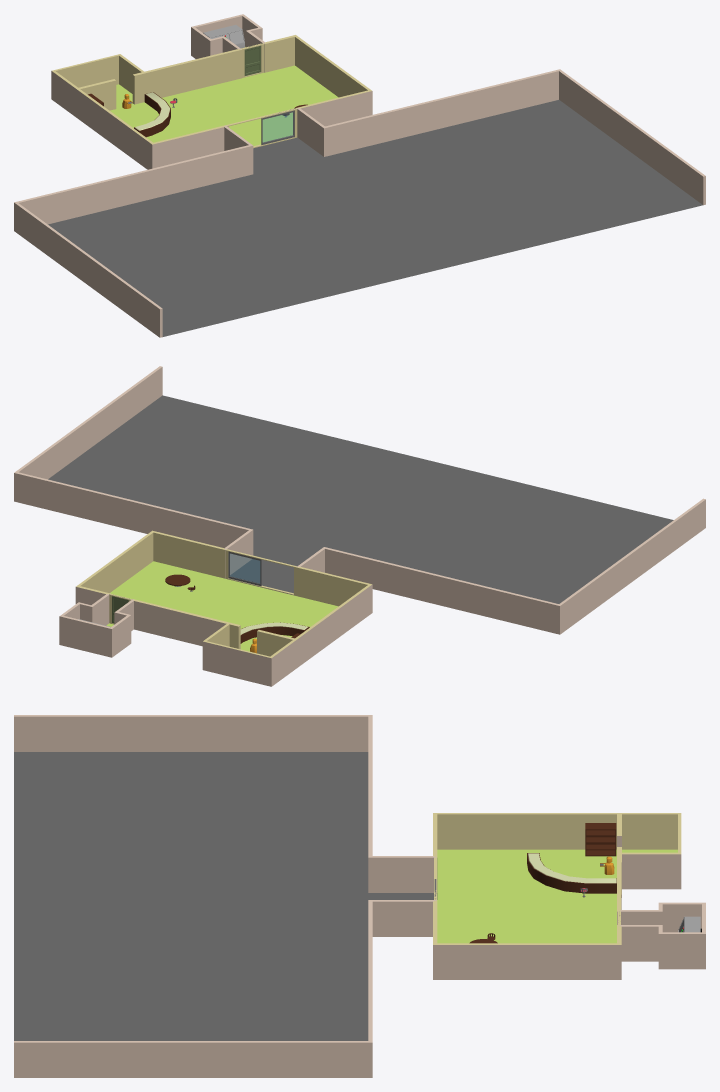
File: сцена 2 офис.fbx
3 views of the same model, one above another, from view 1: azimuth 30°, elevation 25°; view 2: azimuth 150°, elevation 25°; view 3: azimuth 270°, elevation 25° (orthographic). The views are drawn at different scales.
Parts seen in each view (by area): view 1: Полы.001, Стены.001, Дверь большая, Барная стойка, Генератор; view 2: Полы.001, Стены.001, Дверь большая, Барная стойка, Дверной проем большой; view 3: Полы.001, Стены.001, Барная стойка, Шкаф.001.
Part boxes in pixels (x1=…): Полы.001: x1=48, y1=47, x2=702, y2=336; Стены.001: x1=14, y1=14, x2=705, y2=337; Дверь большая: x1=261, y1=108, x2=295, y2=144; Барная стойка: x1=134, y1=92, x2=170, y2=137; Генератор: x1=203, y1=25, x2=244, y2=48; Полы.001: x1=48, y1=395, x2=673, y2=651; Стены.001: x1=14, y1=366, x2=705, y2=686; Дверь большая: x1=228, y1=551, x2=261, y2=585; Барная стойка: x1=240, y1=622, x2=309, y2=643; Дверной проем большой: x1=225, y1=549, x2=297, y2=595; Полы.001: x1=14, y1=752, x2=677, y2=1040; Стены.001: x1=14, y1=715, x2=705, y2=1077; Барная стойка: x1=527, y1=853, x2=616, y2=893; Шкаф.001: x1=585, y1=823, x2=616, y2=856.
Bounding box in the file's own units: 4987 × 4453 × 250.
